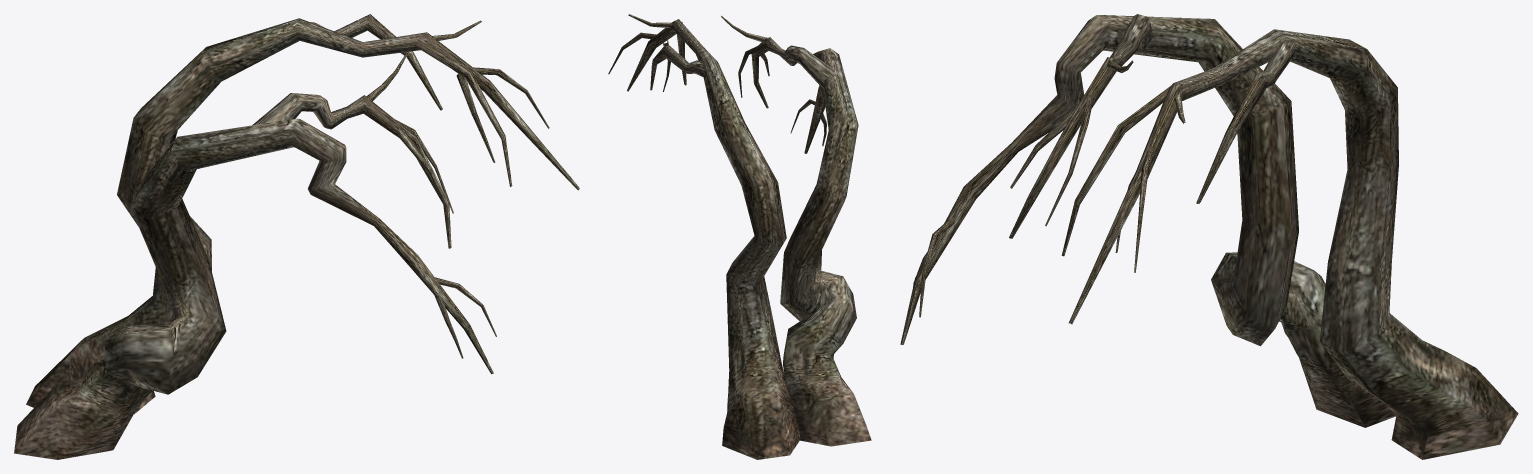
File: deadwood_05.glb
3 renders of one model, left to right at view 1: azimuth 30°, elevation 25°; view 2: azimuth 150°, elevation 25°; view 3: azimuth 270°, elevation 25°, orthographic. The views are drawn at different scales.
Parts seen in each view (by area): view 1: deadwood_05; view 2: deadwood_05; view 3: deadwood_05.
Boxes of the visible parts, <box> form: deadwood_05: <box>14,14,579,459</box>; deadwood_05: <box>608,14,871,459</box>; deadwood_05: <box>900,14,1518,459</box>.
Bounding box in the file's own units: 15.64 × 13.69 × 16.06.
1 material, 1 textured.
